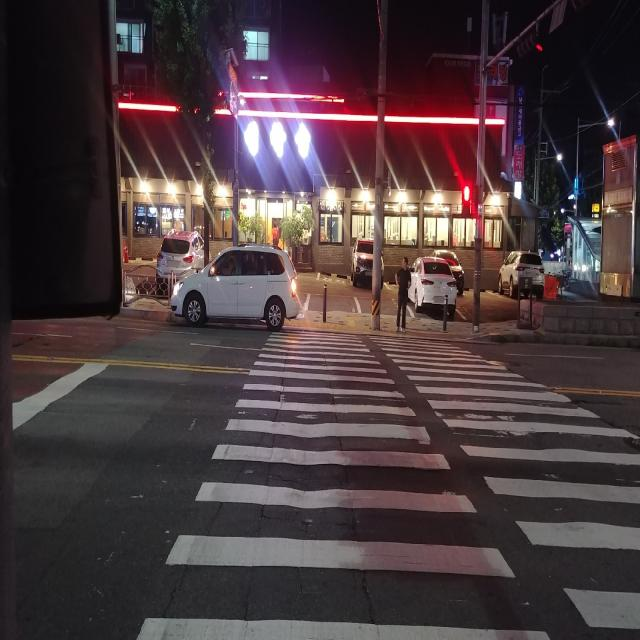빨간불: (463, 185, 472, 215)
횡단보도: (137, 329, 640, 640)
